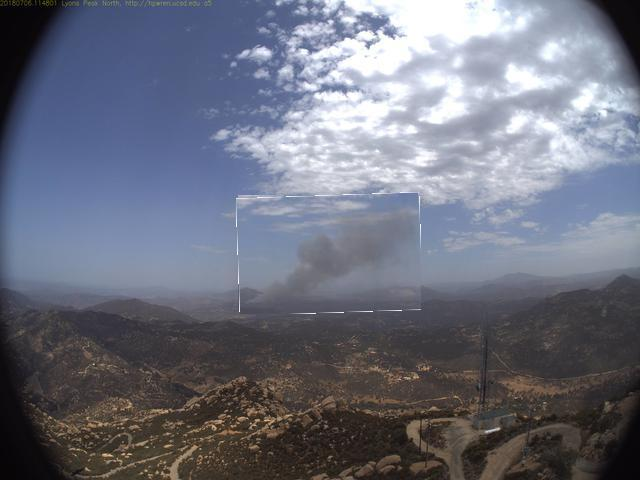smoke: (238, 195, 423, 315)
